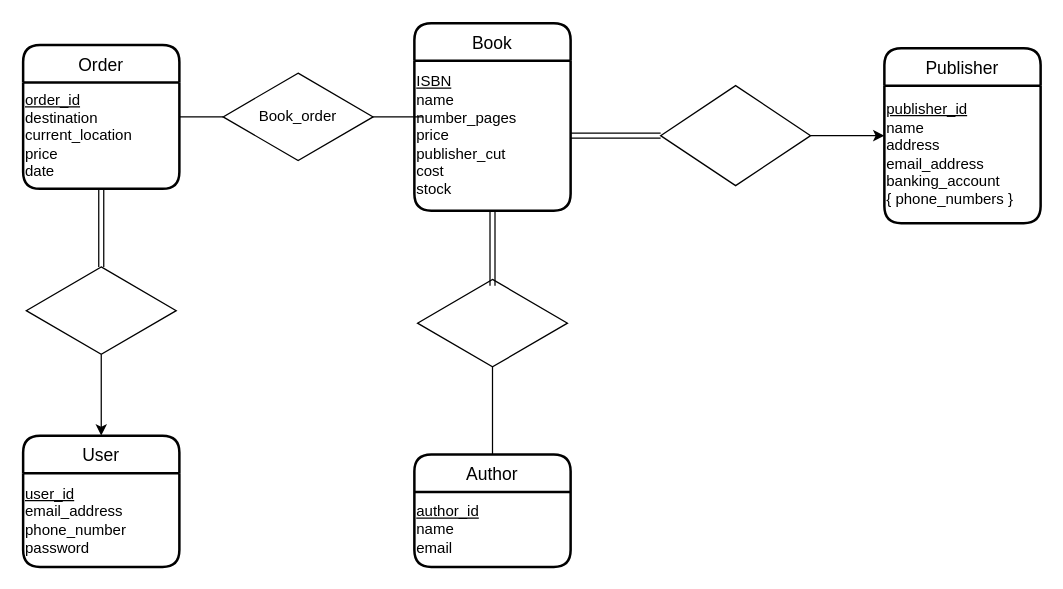
This 1063x589 diagram has some shape labels left out. Each missing label, with the centre of its shape:
Book_author: (x=492, y=322)
Book_publisher: (x=735, y=135)
user_order: (x=100, y=310)
